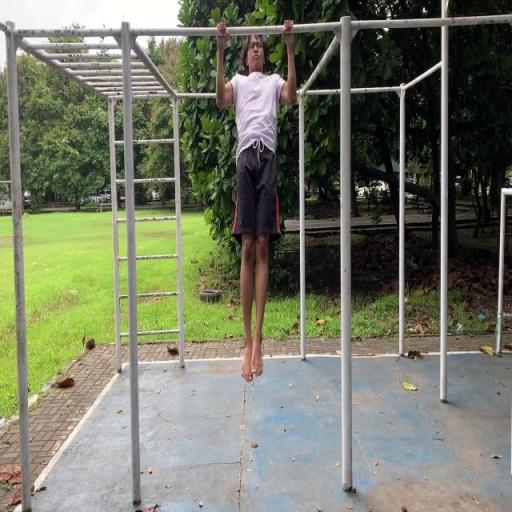Normal_BrenchPress: (215, 18, 297, 383)
